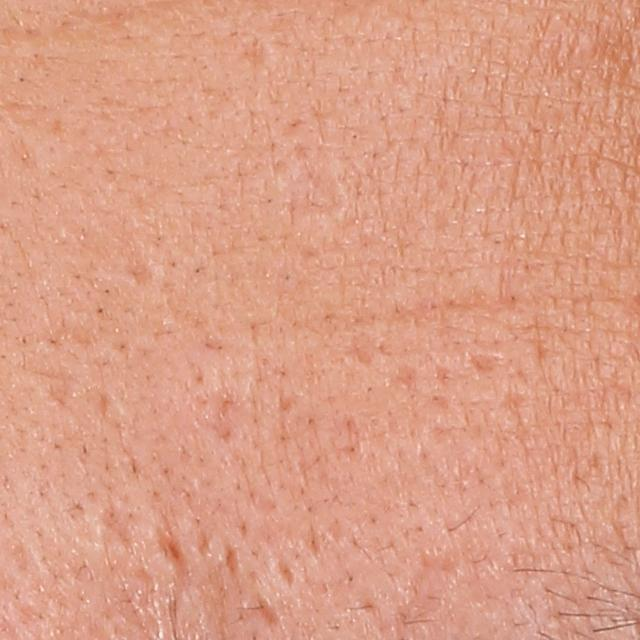atrophic_scar: (153, 517, 187, 567), (100, 505, 138, 548), (255, 588, 283, 629), (468, 349, 505, 379), (348, 332, 380, 366), (245, 35, 275, 70), (222, 537, 239, 580), (278, 561, 301, 591), (280, 394, 298, 417)
